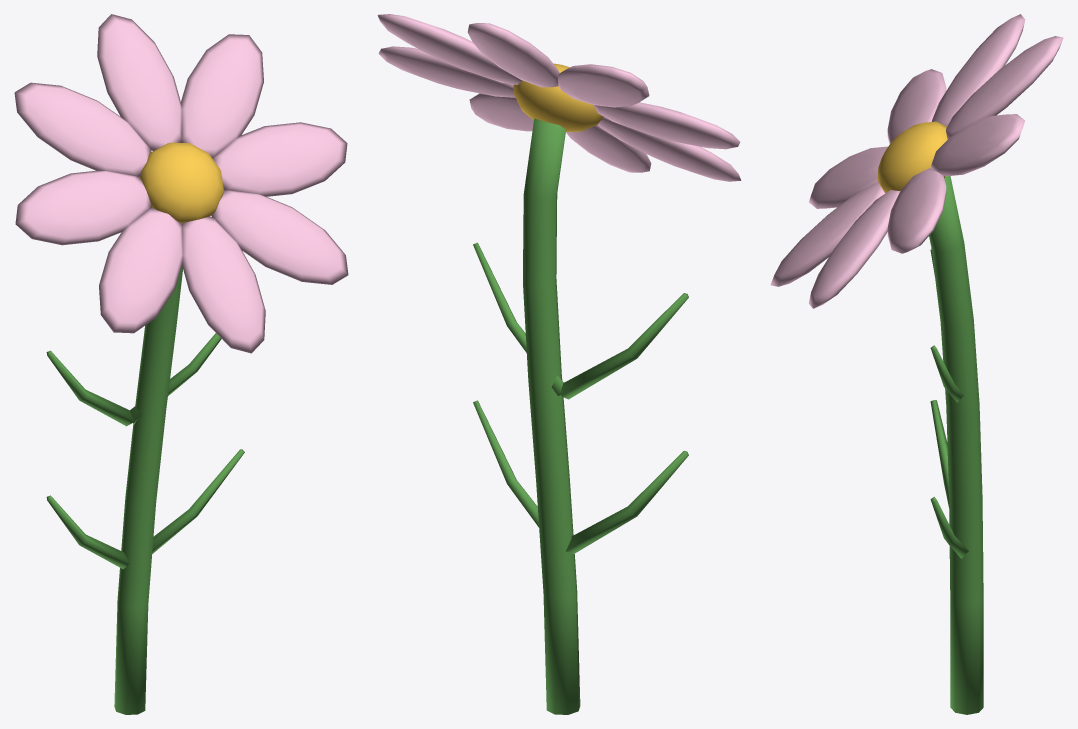
Rendered from flower-cosmos.glb.
3 views of the same model, side by side, from view 1: azimuth 30°, elevation 25°; view 2: azimuth 150°, elevation 25°; view 3: azimuth 270°, elevation 25° (orthographic). The views are drawn at different scales.
Visible parts, largest first — view 1: flower; view 2: flower; view 3: flower.
Boxes of the visible parts, x1,y1,x2,y2 form: flower: (14, 14, 348, 714); flower: (377, 14, 741, 714); flower: (770, 14, 1063, 714).
Bounding box in the file's own units: 0.24 × 0.4521 × 0.1756.
